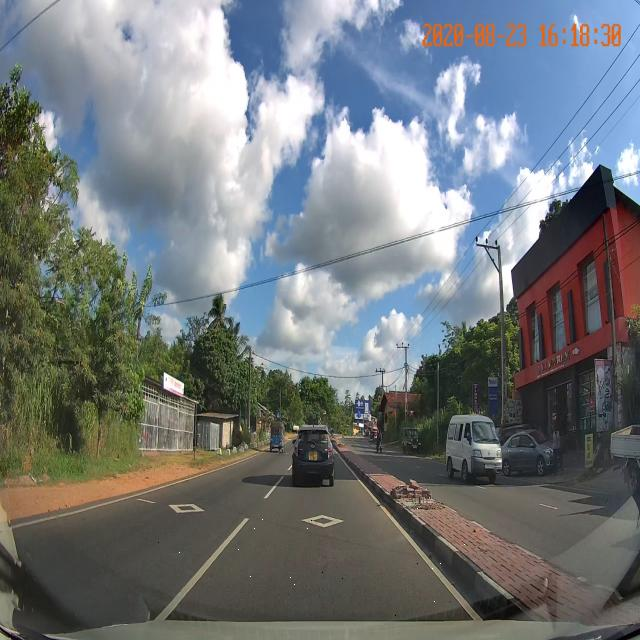diamond: (147, 504, 483, 624)
